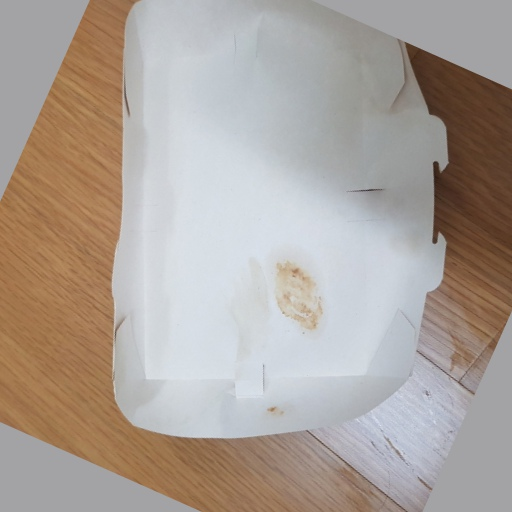Paper_0: (109, 1, 453, 442)
